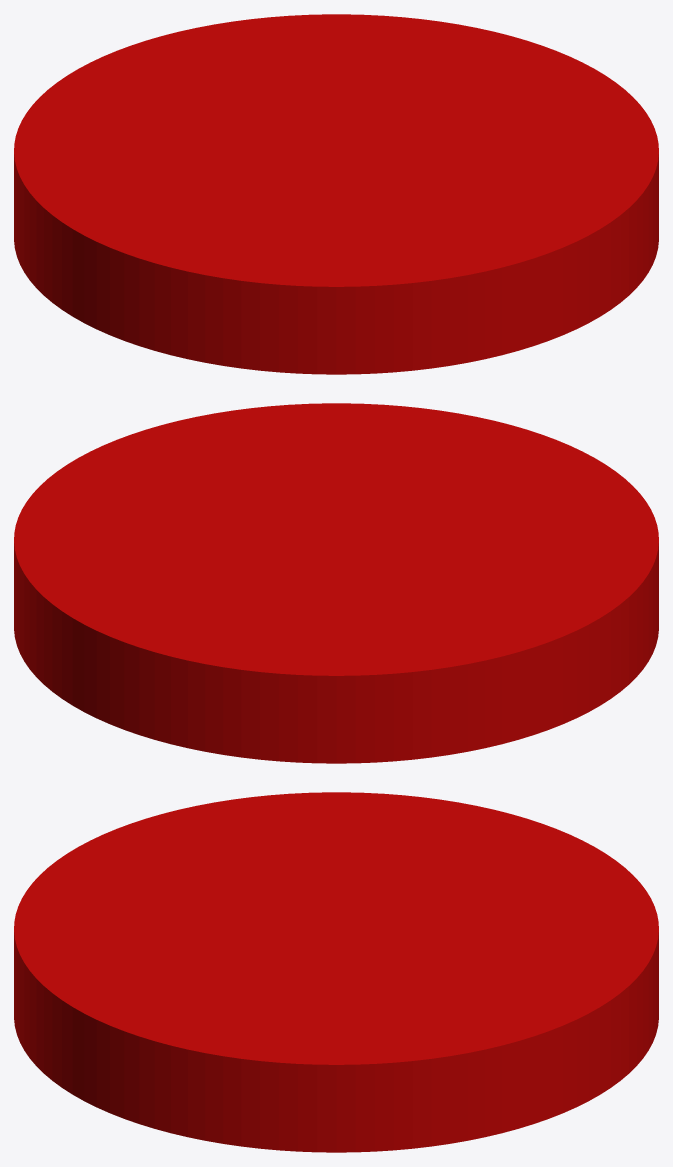
File: puck.glb
The picture shows the model from 3 angles, top to bottom: view 1: azimuth 30°, elevation 25°; view 2: azimuth 150°, elevation 25°; view 3: azimuth 270°, elevation 25°; orthographic projection.
Parts seen in each view (by area): view 1: puck; view 2: puck; view 3: puck.
Boxes of the visible parts, box(x1,y1,x2,y2) form: puck: box(14, 14, 658, 374); puck: box(14, 403, 658, 763); puck: box(14, 792, 658, 1152).
Size of the model in its own units: 99.98 by 15 by 99.99.
